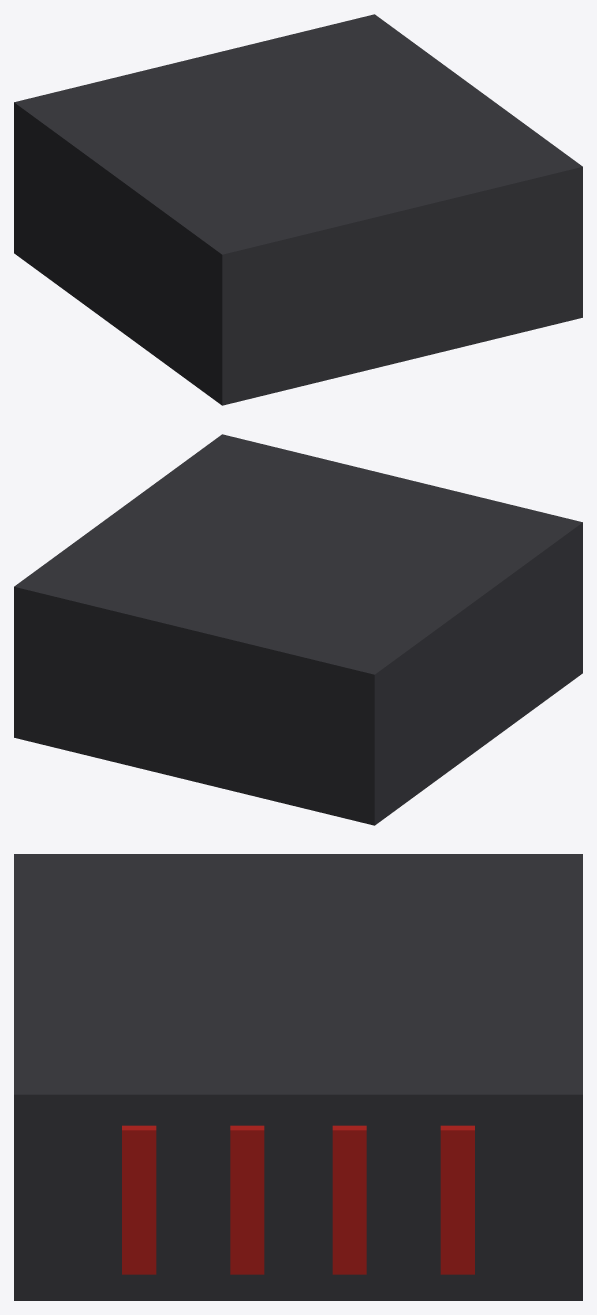
Rendered from cannon_base.obj.
The picture shows the model from 3 angles, top to bottom: view 1: azimuth 30°, elevation 25°; view 2: azimuth 150°, elevation 25°; view 3: azimuth 270°, elevation 25°; orthographic projection. The views are drawn at different scales.
Visible parts, largest first — view 1: CannonBase; view 2: CannonBase; view 3: CannonBase.
Boxes of the visible parts, box(x1,y1,x2,y2) form: CannonBase: box(14, 14, 582, 405); CannonBase: box(14, 434, 582, 825); CannonBase: box(14, 854, 582, 1300).
Size of the model in its own units: 1.02 by 0.4 by 1.
